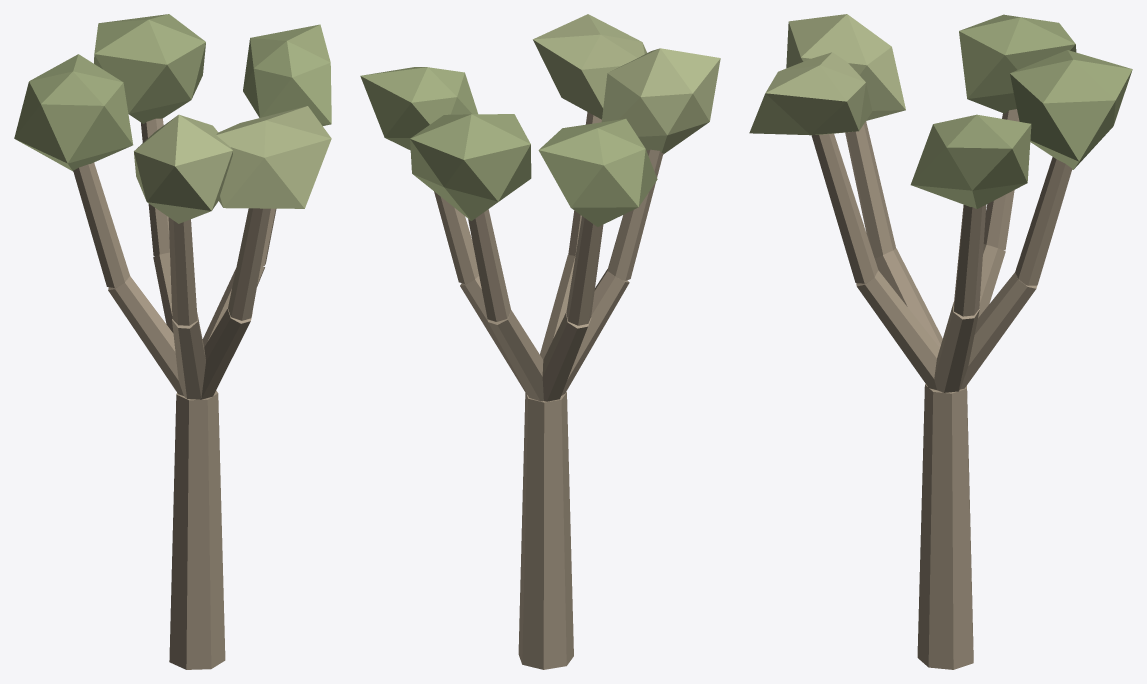
File: JoshuaTree.glb
3 renders of one model, left to right at view 1: azimuth 30°, elevation 25°; view 2: azimuth 150°, elevation 25°; view 3: azimuth 270°, elevation 25°, orthographic. The views are drawn at different scales.
Parts seen in each view (by area): view 1: Limb.094, Leaf rosette.002, Leaf rosette.004, Leaf rosette.001, Leaf rosette.003, Leaf rosette, Limb.100, Limb.099, Limb.104, Limb.102, Limb.103, Limb.101 (+3 smaller); view 2: Limb.094, Leaf rosette.001, Leaf rosette.003, Leaf rosette.002, Leaf rosette.004, Leaf rosette, Limb.098, Limb.100, Limb.097, Limb.099, Limb.102, Limb.101 (+3 smaller); view 3: Limb.094, Leaf rosette.001, Leaf rosette, Leaf rosette.004, Leaf rosette.002, Leaf rosette.003, Limb.104, Limb.103, Limb.102, Limb.098, Limb.097, Limb.096 (+4 smaller).
Part boxes in pixels (left/top/right/bottom): Limb.094: left=169, top=390, right=225, bottom=669; Leaf rosette.002: left=14, top=54, right=133, bottom=171; Leaf rosette.004: left=216, top=106, right=331, bottom=208; Leaf rosette.001: left=94, top=14, right=205, bottom=123; Leaf rosette.003: left=134, top=114, right=232, bottom=223; Leaf rosette: left=243, top=24, right=331, bottom=125; Limb.100: left=73, top=162, right=129, bottom=287; Limb.099: left=108, top=276, right=183, bottom=395; Limb.104: left=228, top=208, right=270, bottom=320; Limb.102: left=168, top=217, right=197, bottom=325; Limb.103: left=200, top=308, right=252, bottom=399; Limb.101: left=172, top=312, right=205, bottom=399; Limb.094: left=518, top=392, right=573, bottom=669; Leaf rosette.001: left=410, top=114, right=531, bottom=220; Leaf rosette.003: left=601, top=48, right=720, bottom=154; Leaf rosette.002: left=538, top=118, right=657, bottom=227; Leaf rosette.004: left=533, top=14, right=646, bottom=119; Leaf rosette: left=360, top=67, right=477, bottom=150; Limb.098: left=468, top=209, right=510, bottom=321; Limb.100: left=566, top=216, right=603, bottom=325; Limb.097: left=487, top=310, right=543, bottom=401; Limb.099: left=542, top=313, right=591, bottom=401; Limb.102: left=607, top=149, right=663, bottom=280; Limb.101: left=561, top=268, right=629, bottom=395; Limb.094: left=917, top=384, right=973, bottom=669; Leaf rosette.001: left=1010, top=50, right=1132, bottom=169; Leaf rosette: left=910, top=114, right=1031, bottom=208; Leaf rosette.004: left=749, top=52, right=872, bottom=135; Leaf rosette.002: left=959, top=14, right=1076, bottom=113; Leaf rosette.003: left=786, top=14, right=905, bottom=120; Limb.104: left=811, top=133, right=878, bottom=283; Limb.103: left=856, top=270, right=939, bottom=389; Limb.102: left=845, top=121, right=895, bottom=258; Limb.098: left=1015, top=157, right=1072, bottom=285; Limb.097: left=960, top=272, right=1037, bottom=389; Limb.096: left=954, top=205, right=986, bottom=316.
Size of the model in its own units: 2.59 by 5.03 by 2.86.
